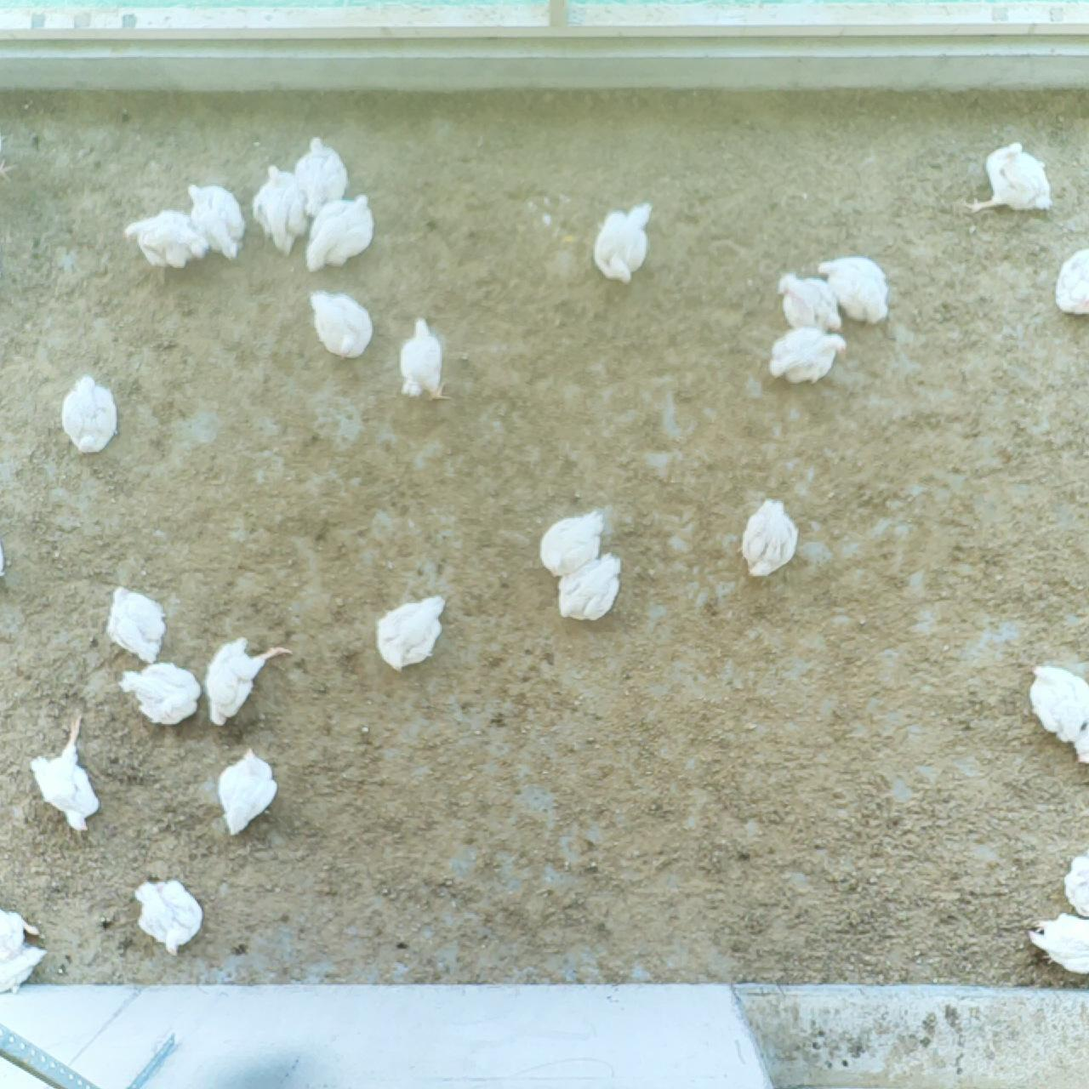chicken: (14, 712, 110, 848), (204, 625, 292, 728), (370, 590, 463, 675), (973, 133, 1052, 228), (122, 875, 209, 955), (119, 649, 202, 731), (301, 196, 379, 276), (594, 192, 652, 294), (761, 325, 858, 383), (252, 156, 308, 254), (220, 747, 282, 835), (396, 313, 453, 408), (104, 587, 172, 665), (1027, 656, 1089, 741), (307, 288, 378, 362), (738, 495, 801, 578), (126, 208, 211, 269), (59, 375, 119, 459), (824, 257, 893, 329), (187, 181, 247, 262), (537, 505, 607, 574), (293, 130, 346, 220), (560, 550, 623, 625), (779, 276, 843, 339), (1030, 911, 1089, 972), (1, 944, 59, 1003), (1054, 239, 1089, 316), (1, 906, 36, 958), (1066, 847, 1089, 921), (1, 529, 14, 584), (1079, 712, 1089, 767)
